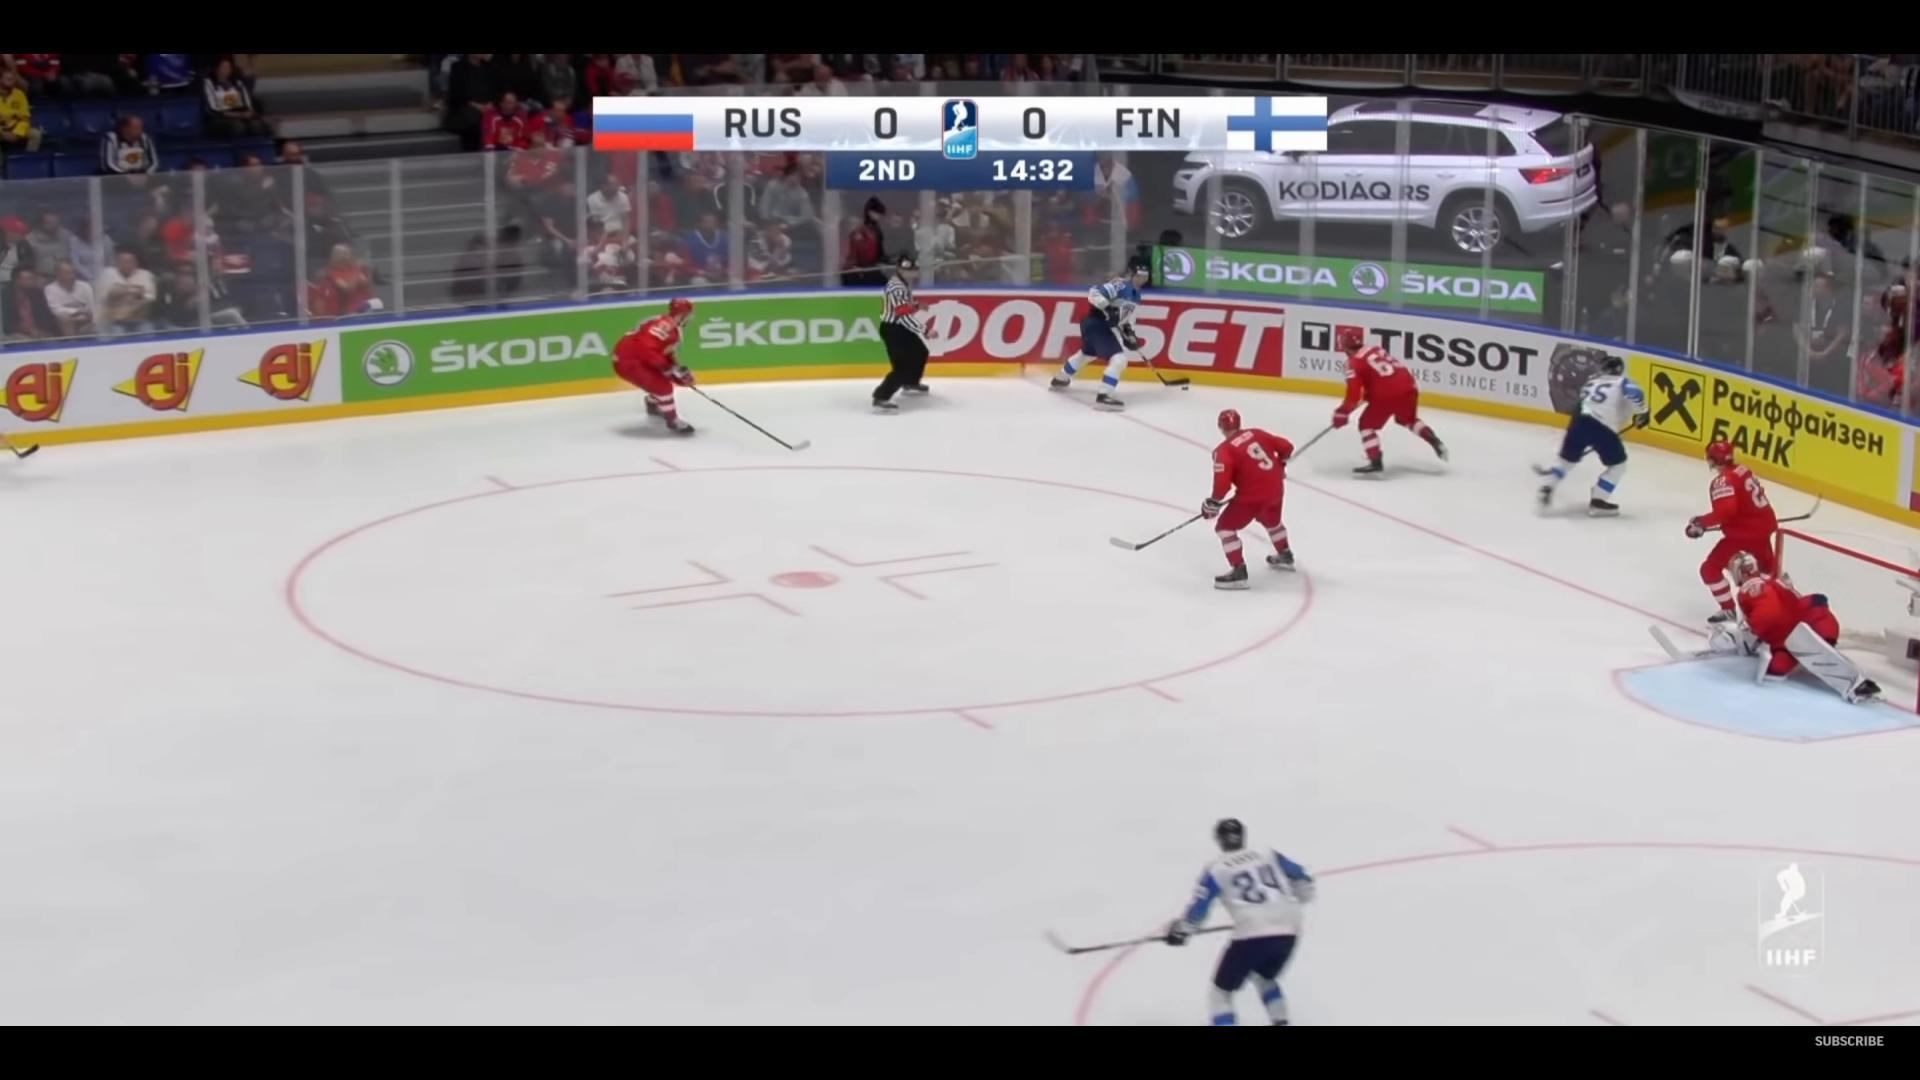puck: (1180, 385, 1188, 390)
